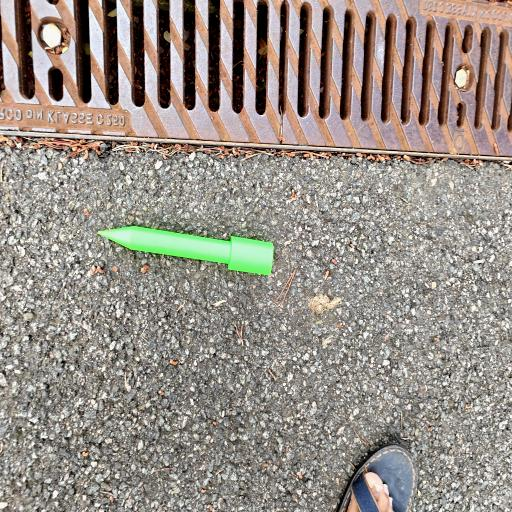Probe-Detection: (98, 226, 274, 275)
